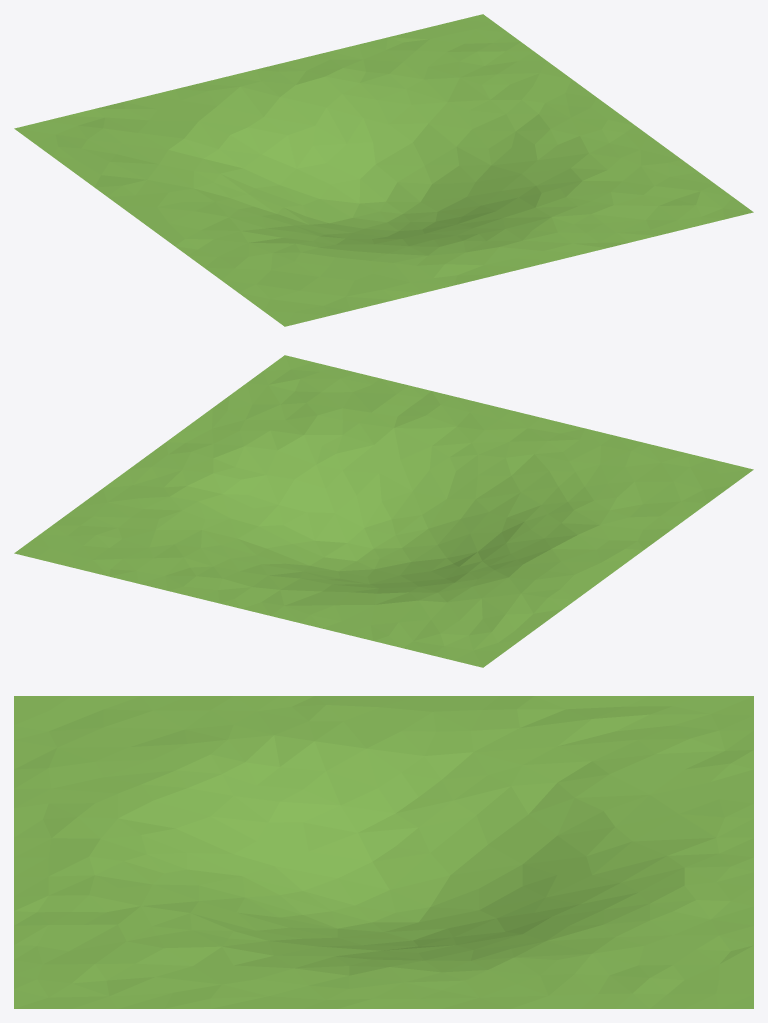
Rendered from MT_Terrain_M_b_05_LOD.fbx.
3 views of the same model, one above another, from view 1: azimuth 30°, elevation 25°; view 2: azimuth 150°, elevation 25°; view 3: azimuth 270°, elevation 25° (orthographic). The views are drawn at different scales.
Parts seen in each view (by area): view 1: MT_Terrain_M_b_05_LOD0; view 2: MT_Terrain_M_b_05_LOD0; view 3: MT_Terrain_M_b_05_LOD0.
Boxes of the visible parts, x1=… form: MT_Terrain_M_b_05_LOD0: x1=14, y1=14, x2=753, y2=326; MT_Terrain_M_b_05_LOD0: x1=14, y1=355, x2=753, y2=667; MT_Terrain_M_b_05_LOD0: x1=14, y1=696, x2=753, y2=1008.
Size of what is drawn, in the model's own units: 5000 by 464 by 5000.
